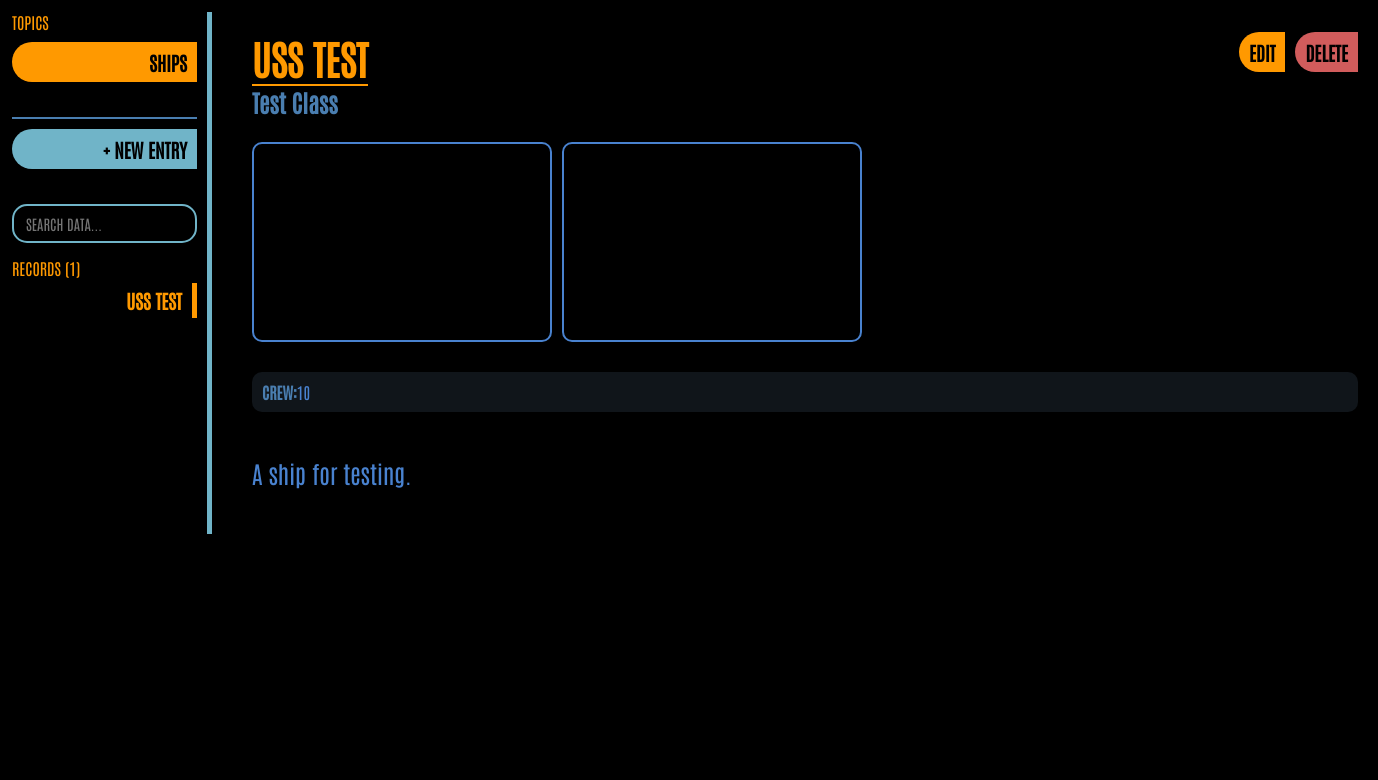
Test: Library edit / cancel / save image handling › shows the selected record and starts editing with its saved images
The image size is (1378, 780).
Expected: the heading "USS TEST" is shown, [252,32,368,86]
Expected: the button "EDIT" is shown, [1249,40,1275,64]
Click the button "EDIT" at {"x": 1262, "y": 52}, box [1239,32,1285,72]
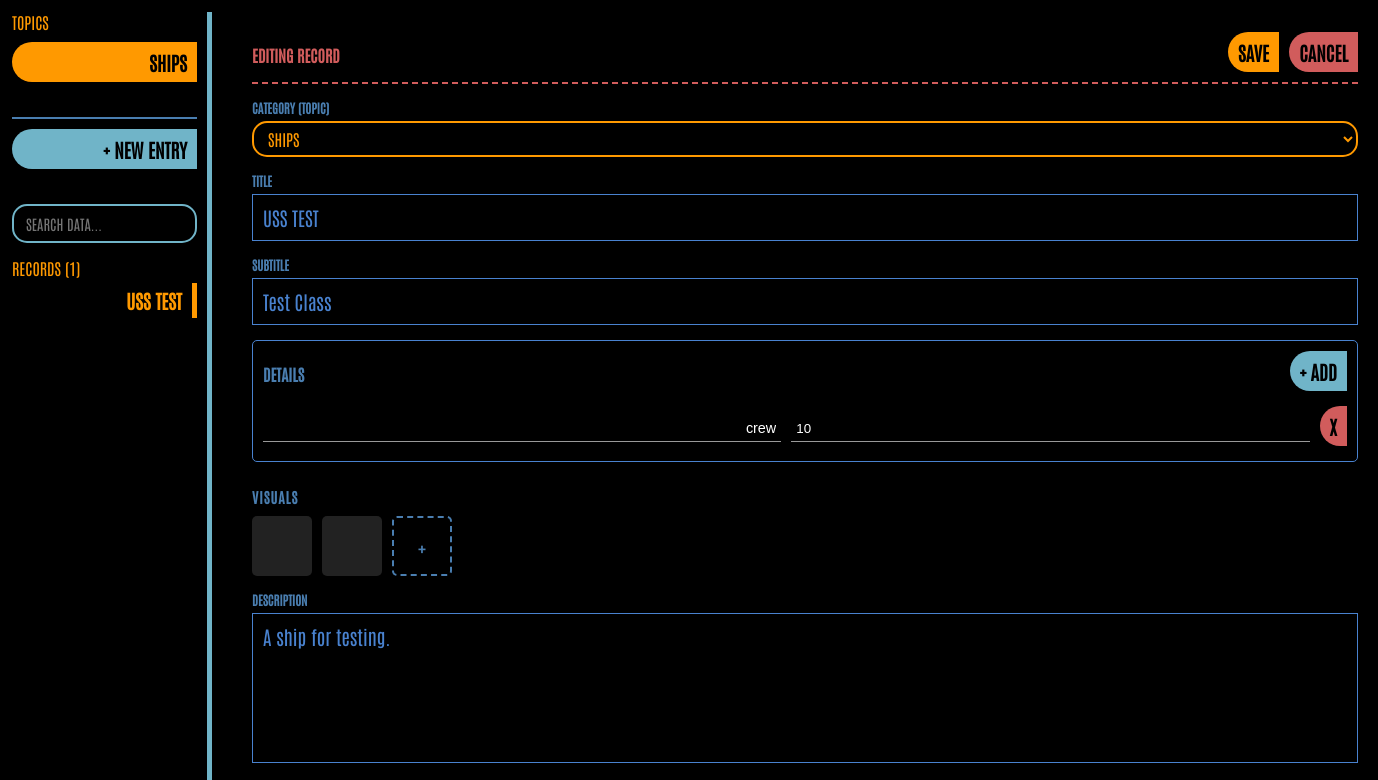
Expected: the text "EDITING RECORD" is shown, [252,44,340,64]
